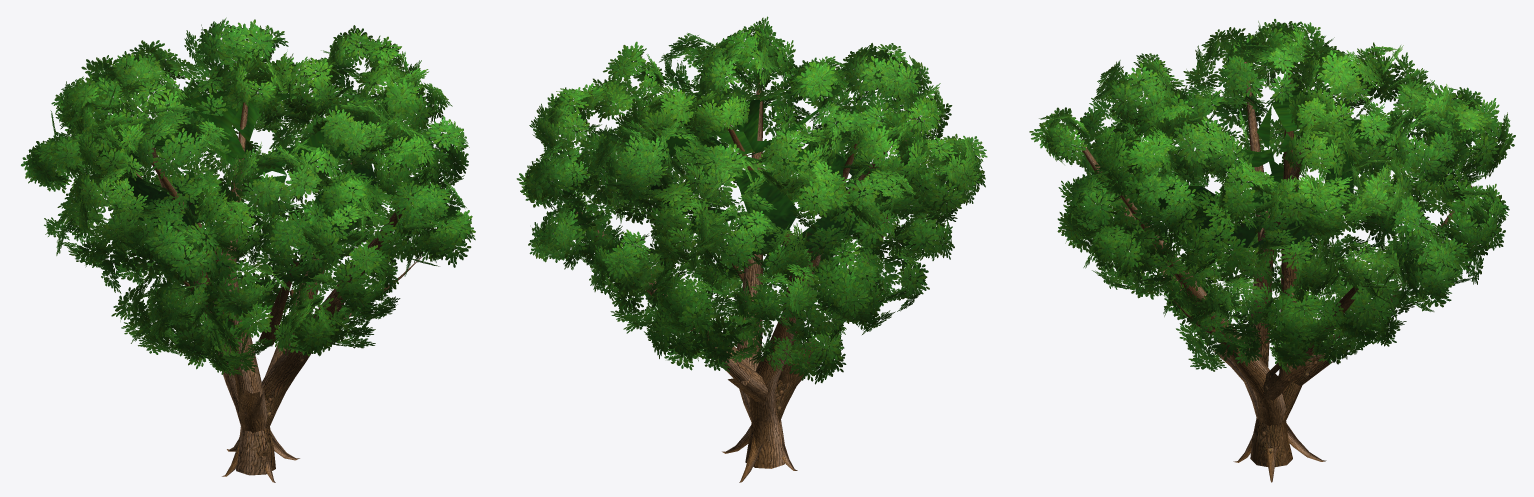
File: mm6_deco_tree07.glb
The picture shows the model from 3 angles, left to right: view 1: azimuth 30°, elevation 25°; view 2: azimuth 150°, elevation 25°; view 3: azimuth 270°, elevation 25°; orthographic projection.
Parts seen in each view (by area): view 1: Tree; view 2: Tree; view 3: Tree.
Part boxes in pixels (x1,y1,x2,y2): Tree: (21, 17, 475, 482); Tree: (516, 16, 987, 482); Tree: (1029, 19, 1515, 482).
Size of the model in its own units: 4.8 by 4.38 by 5.09.
Materials: 3 (3 with a texture image).
